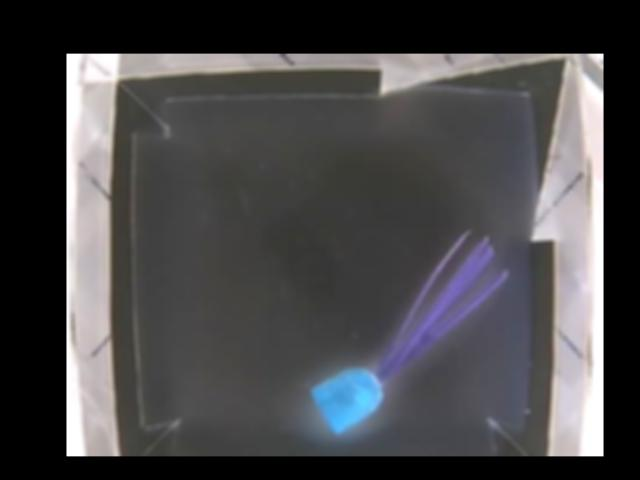Carrot: (310, 345, 416, 433)
